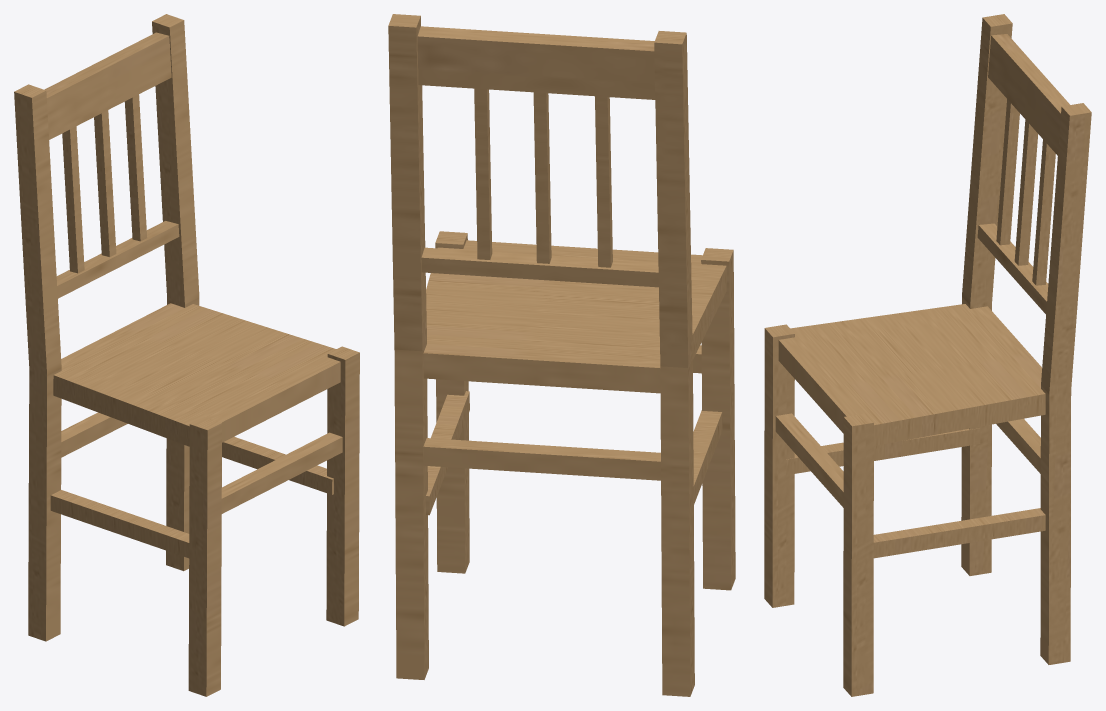
The model's file is chair.glb.
The picture shows the model from 3 angles, left to right: view 1: azimuth 30°, elevation 25°; view 2: azimuth 150°, elevation 25°; view 3: azimuth 270°, elevation 25°; orthographic projection. The views are drawn at different scales.
Visible parts, largest first — view 1: CHAIRFINAl.001; view 2: CHAIRFINAl.001; view 3: CHAIRFINAl.001.
Boxes of the visible parts, left/top/right/bottom form: CHAIRFINAl.001: left=14, top=14, right=359, bottom=696; CHAIRFINAl.001: left=388, top=14, right=735, bottom=696; CHAIRFINAl.001: left=764, top=14, right=1091, bottom=696.
Size of the model in its own units: 1.17 by 2.22 by 1.2.
1 material, 1 textured.
